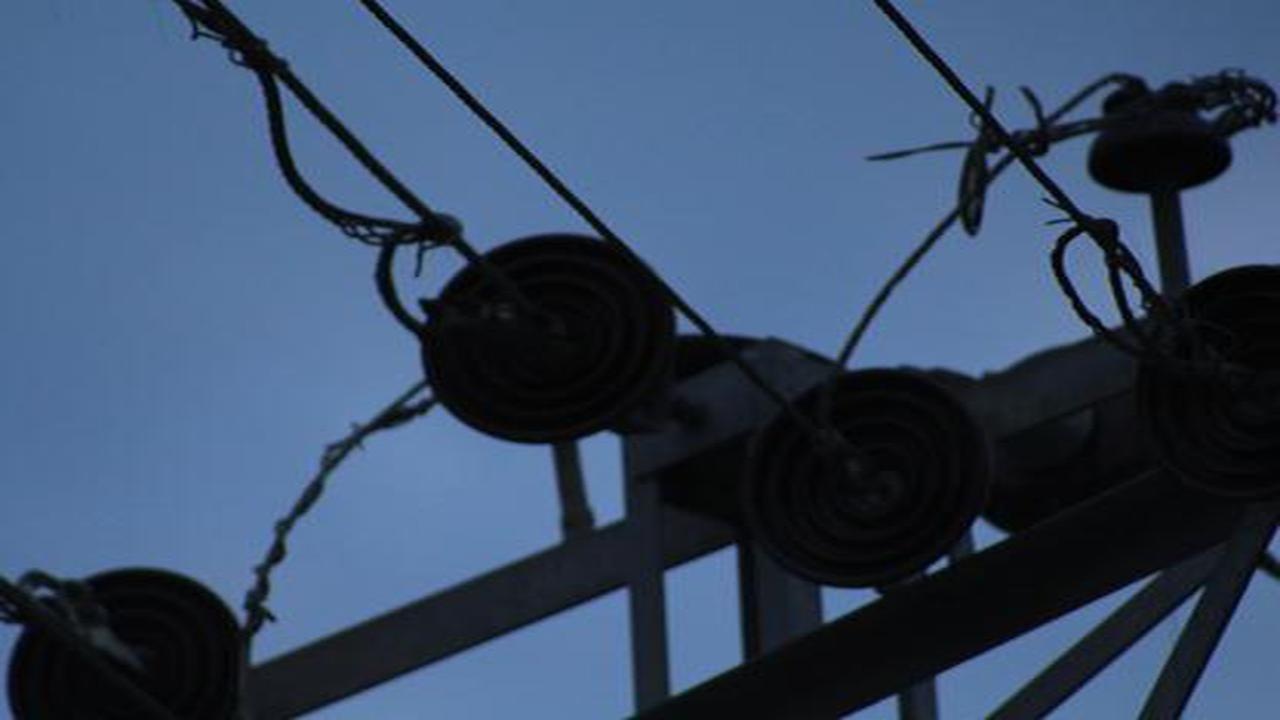insulator_disc: (734, 362, 998, 594), (420, 228, 680, 454), (1127, 262, 1270, 526), (7, 563, 252, 712)
insulator_pin: (1085, 78, 1242, 202)
